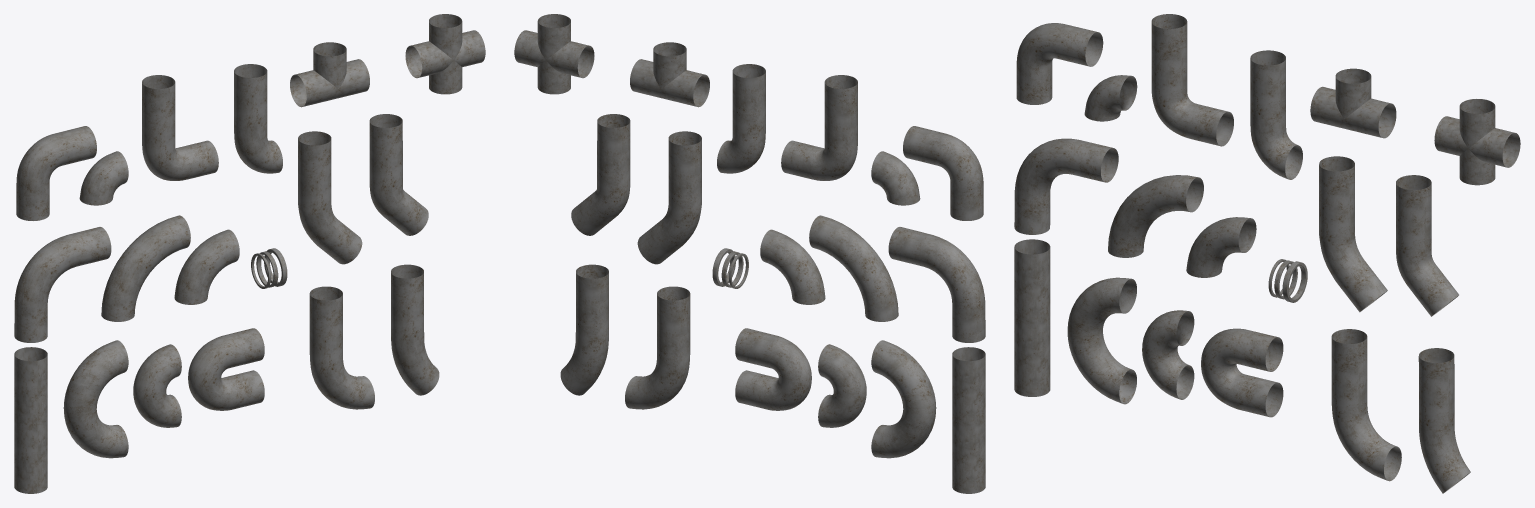
Rendered from pipes sketchfab.fbx.
The picture shows the model from 3 angles, left to right: view 1: azimuth 30°, elevation 25°; view 2: azimuth 150°, elevation 25°; view 3: azimuth 330°, elevation 25°; orthographic projection. The views are drawn at different scales.
Parts seen in each view (by area): view 1: L_big, straight, U, C_big, L_down, L_soft_down, C_down, C_half_down, L_half_down, C_half_big, X, L (+5 smaller); view 2: L_big, straight, U, C_big, L_down, L_soft_down, C_down, C_half_down, L_half_down, C_half_big, X, L (+5 smaller); view 3: C_down, straight, L_down, L_soft_down, U, C_big, L_big, L_half_down, C_half_down, X, L_little_down, L (+6 smaller).
Part boxes in pixels (x1,y1,x2,y2): L_big: (14, 227, 111, 342); straight: (14, 347, 47, 493); U: (188, 328, 264, 410); C_big: (63, 340, 128, 458); L_down: (142, 75, 218, 180); L_soft_down: (298, 131, 362, 264); C_down: (309, 286, 374, 409); C_half_down: (391, 264, 439, 395); L_half_down: (369, 114, 428, 235); C_half_big: (101, 215, 190, 321); X: (405, 14, 485, 94); L: (16, 126, 96, 220); L_big: (888, 227, 985, 342); straight: (952, 347, 985, 493); U: (735, 328, 811, 410); C_big: (871, 340, 936, 458); L_down: (781, 75, 857, 180); L_soft_down: (637, 131, 701, 264); C_down: (625, 286, 690, 409); C_half_down: (560, 264, 608, 395); L_half_down: (571, 114, 630, 235); C_half_big: (809, 215, 898, 321); X: (514, 14, 594, 94); L: (903, 126, 983, 220); C_down: (1331, 329, 1401, 481); straight: (1014, 239, 1050, 396); L_down: (1151, 14, 1233, 146); L_soft_down: (1319, 156, 1387, 312); U: (1201, 328, 1283, 417); C_big: (1067, 277, 1136, 404); L_big: (1014, 138, 1118, 234); L_half_down: (1396, 175, 1458, 316); C_half_down: (1418, 348, 1470, 493); X: (1434, 99, 1520, 185); L_little_down: (1250, 50, 1302, 179); L: (1016, 23, 1103, 104).
Bounding box in the file's own units: 31.81 × 24.82 × 2.31.
